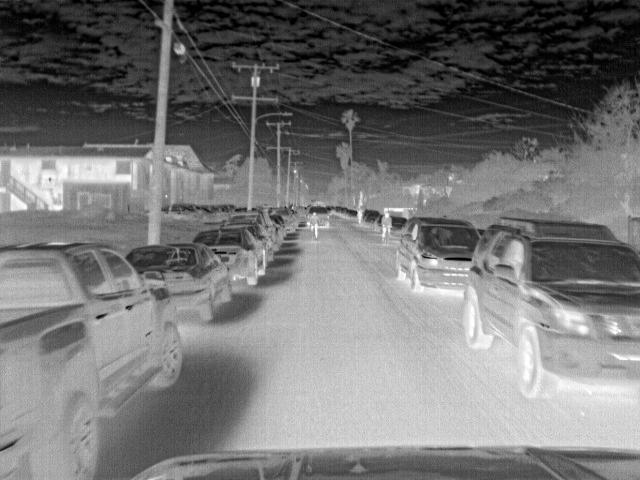car: (1, 239, 187, 478), (461, 221, 640, 404), (128, 241, 230, 323), (398, 216, 481, 294), (194, 227, 268, 286), (496, 214, 619, 242), (227, 214, 276, 260), (270, 206, 296, 234), (162, 204, 197, 220), (310, 207, 332, 227), (389, 216, 408, 235), (362, 211, 382, 227), (199, 208, 219, 224), (373, 214, 386, 230), (346, 208, 362, 220)
person: (377, 208, 391, 241), (309, 209, 322, 237), (357, 205, 366, 227)
